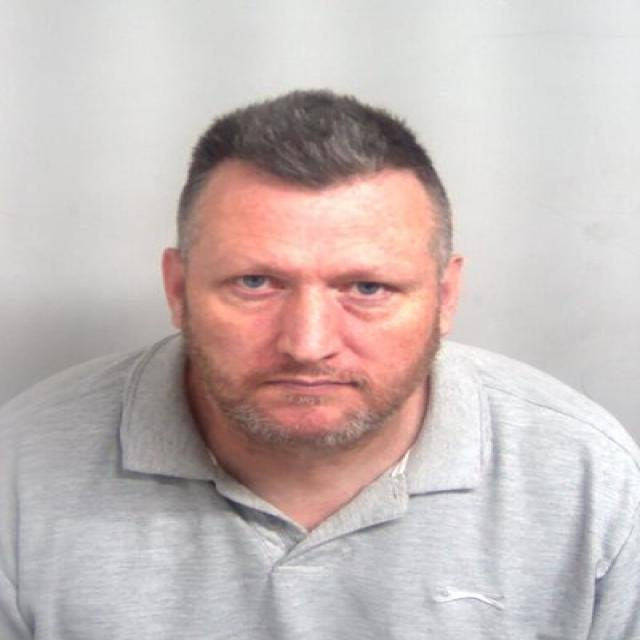mobile_phonerotation: (0, 85, 638, 638)
